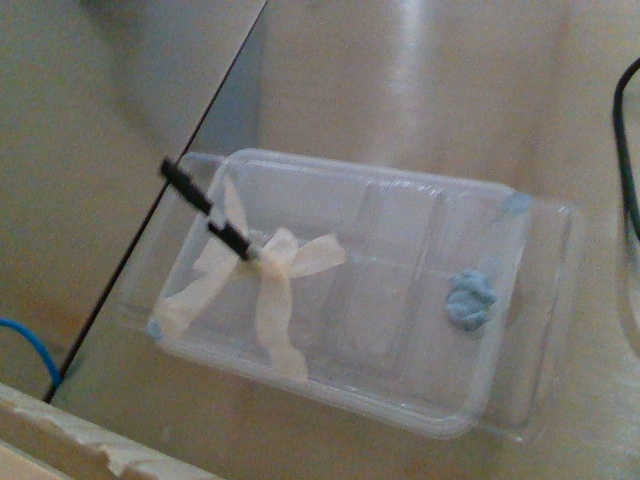test_strip: (156, 155, 225, 228)
